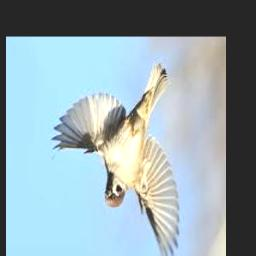Sparrow: (51, 62, 179, 256)
